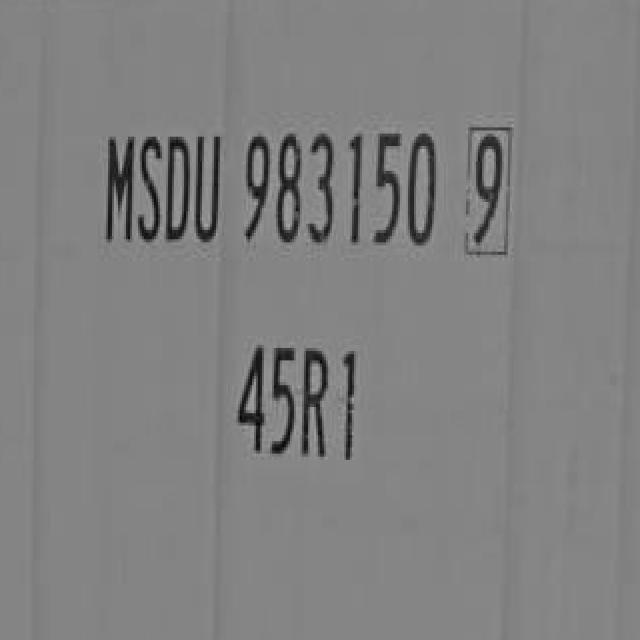dv: (459, 107, 520, 264)
owner: (100, 115, 223, 258)
serial: (238, 119, 442, 270)
size: (230, 325, 368, 468)
